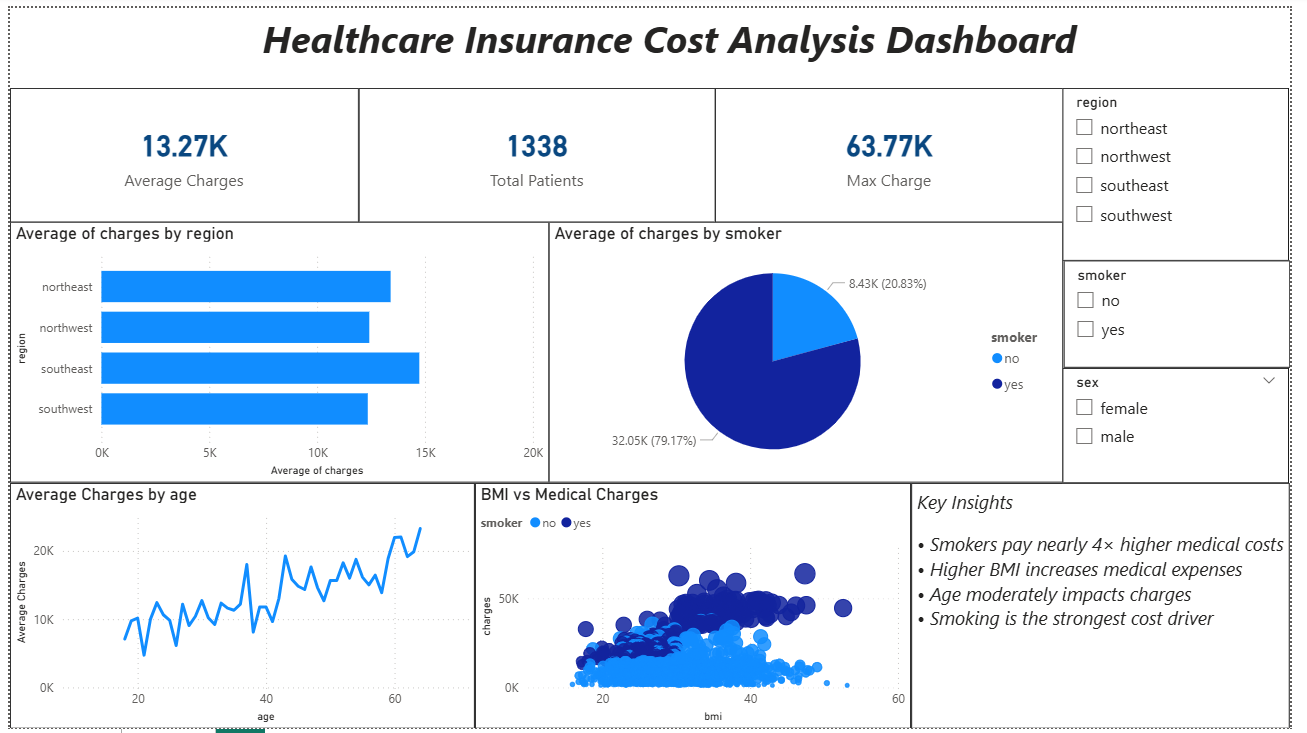

The dashboard page shown, as its layout file describes it:
{"tool":"powerbi","page":{"name":"Page 1","canvas":[1280,720],"ordinal":0},"visuals":[{"type":"clusteredBarChart","fields":{"Category":["insurance.region"],"Y":["Avg(insurance.charges)"]},"box":[0,214.1,539.3,260.7],"z":0},{"type":"pieChart","fields":{"Category":["insurance.smoker"],"Y":["Avg(insurance.charges)"]},"box":[539.3,214.1,514.6,260.7],"z":1},{"type":"lineChart","fields":{"Category":["insurance.age"],"Y":["insurance.Average Charges"]},"box":[0,474.8,465.2,245.6],"z":2},{"type":"scatterChart","title":"BMI vs Medical Charges","fields":{"X":["insurance.bmi"],"Y":["insurance.charges"],"Size":["Sum(insurance.charges)1"],"Series":["insurance.smoker"]},"box":[465.2,474.8,436.4,245.6],"z":3},{"type":"card","fields":{"Values":["insurance.Average Charges"]},"box":[0,79.6,348.5,134.5],"z":4},{"type":"card","fields":{"Values":["insurance.Total Patients"]},"box":[348.5,79.6,356.8,134.5],"z":5},{"type":"card","fields":{"Values":["insurance.Max Charge"]},"box":[705.3,79.6,348.5,134.5],"z":6},{"type":"textbox","box":[901.5,474.8,378.7,245.6],"z":7},{"type":"slicer","fields":{"Values":["insurance.region"]},"box":[1052.5,79.6,226.4,172.9],"z":8},{"type":"slicer","fields":{"Values":["insurance.smoker"]},"box":[1053.9,252.5,226.4,107],"z":9},{"type":"slicer","fields":{"Values":["insurance.sex"]},"box":[1053.9,359.5,226.4,113.9],"z":10},{"type":"textbox","box":[247.1,0,968.6,80],"z":11}]}

Visuals, with their boxes in screenshot pixels (x1, y1, x2, y2), scaled from the page's 1280x720 canvas onto the 1307x733 screenshot:
clusteredBarChart - insurance.region x Avg(insurance.charges): {"x1": 0, "y1": 218, "x2": 551, "y2": 483}
pieChart - insurance.smoker x Avg(insurance.charges): {"x1": 551, "y1": 218, "x2": 1076, "y2": 483}
lineChart - insurance.age x insurance.Average Charges: {"x1": 0, "y1": 483, "x2": 475, "y2": 732}
"BMI vs Medical Charges" scatterChart: {"x1": 475, "y1": 483, "x2": 921, "y2": 732}
card - insurance.Average Charges: {"x1": 0, "y1": 81, "x2": 356, "y2": 218}
card - insurance.Total Patients: {"x1": 356, "y1": 81, "x2": 720, "y2": 218}
card - insurance.Max Charge: {"x1": 720, "y1": 81, "x2": 1076, "y2": 218}
textbox: {"x1": 921, "y1": 483, "x2": 1306, "y2": 732}
slicer - insurance.region: {"x1": 1075, "y1": 81, "x2": 1306, "y2": 257}
slicer - insurance.smoker: {"x1": 1076, "y1": 257, "x2": 1306, "y2": 366}
slicer - insurance.sex: {"x1": 1076, "y1": 366, "x2": 1306, "y2": 482}
textbox: {"x1": 252, "y1": 0, "x2": 1241, "y2": 81}
